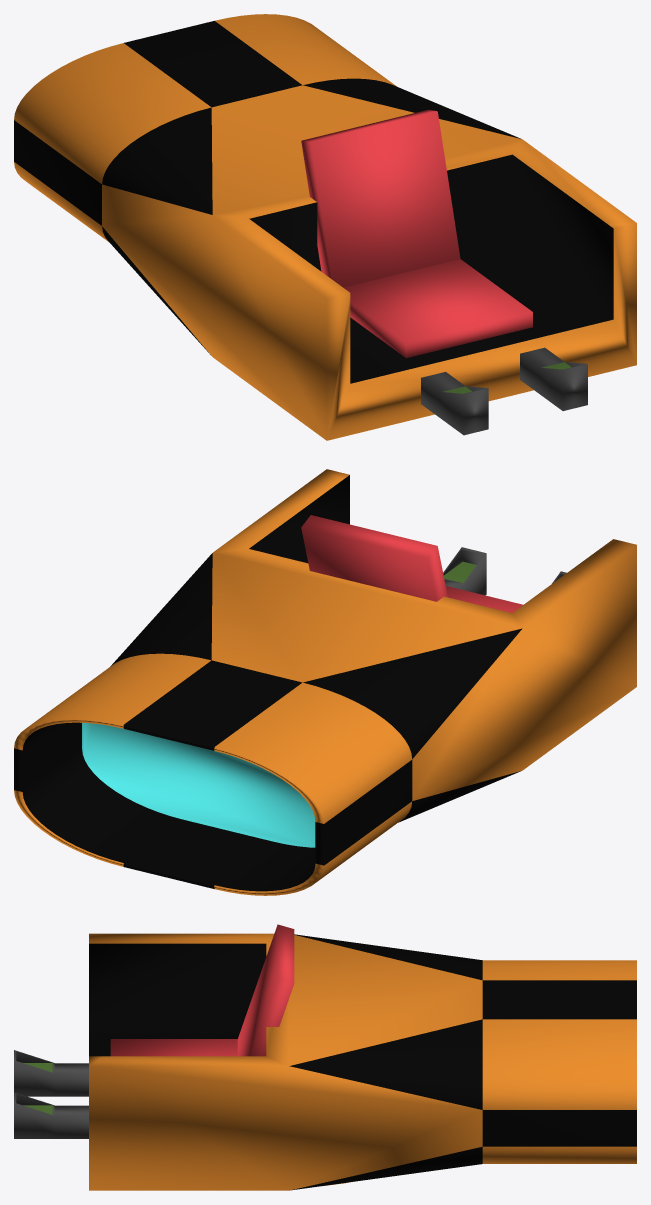
The model's file is Guppy.glb.
3 views of the same model, one above another, from view 1: azimuth 30°, elevation 25°; view 2: azimuth 150°, elevation 25°; view 3: azimuth 270°, elevation 25° (orthographic). The views are drawn at different scales.
Parts seen in each view (by area): view 1: Cube-col, Cube.001-col, Cube.004-col; view 2: Cube-col, Cube.001-col, Cube.004-col; view 3: Cube-col, Cube.001-col, Cube.004-col.
Part boxes in pixels (x1,y1,x2,y2): Cube-col: [14, 14, 636, 440]; Cube.001-col: [301, 109, 532, 358]; Cube.004-col: [421, 347, 587, 435]; Cube-col: [14, 469, 636, 895]; Cube.001-col: [301, 515, 523, 612]; Cube.004-col: [443, 547, 566, 595]; Cube-col: [89, 933, 636, 1190]; Cube.001-col: [110, 924, 294, 1056]; Cube.004-col: [14, 1050, 88, 1138].
Bounding box in the file's own units: 4.57 × 2.9 × 9.07.
